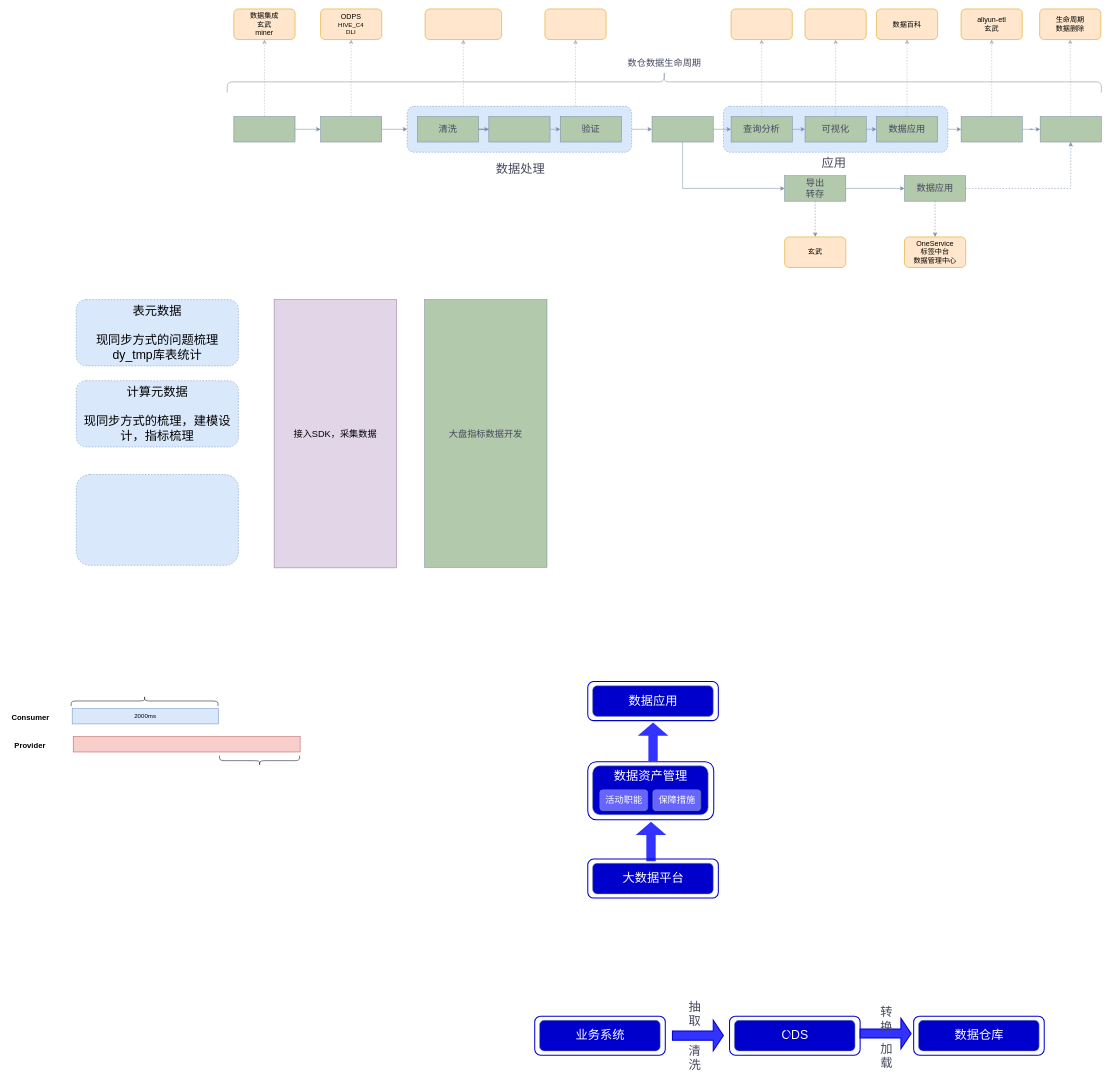
Image size: 1110x1081. Some labels were removed from this diagram. Each missing label, with the centre of its shape:
Discover 斗鱼360: point 835,24
DQC: point 575,24
Miner-ETL 任务开发: point 463,24
休眠3000ms: point 186,744
存储: point 351,129
归档: point 991,129
数据开发 即席查询 模板查询: point 761,24
等待2000ms: point 144,700
统一采集SDK 系统设计和开发: point 157,519
落盘: point 682,129
融合 转换: point 519,129
还需要1000ms执行完成: point 259,760
销毁: point 1070,129
集成: point 264,129
